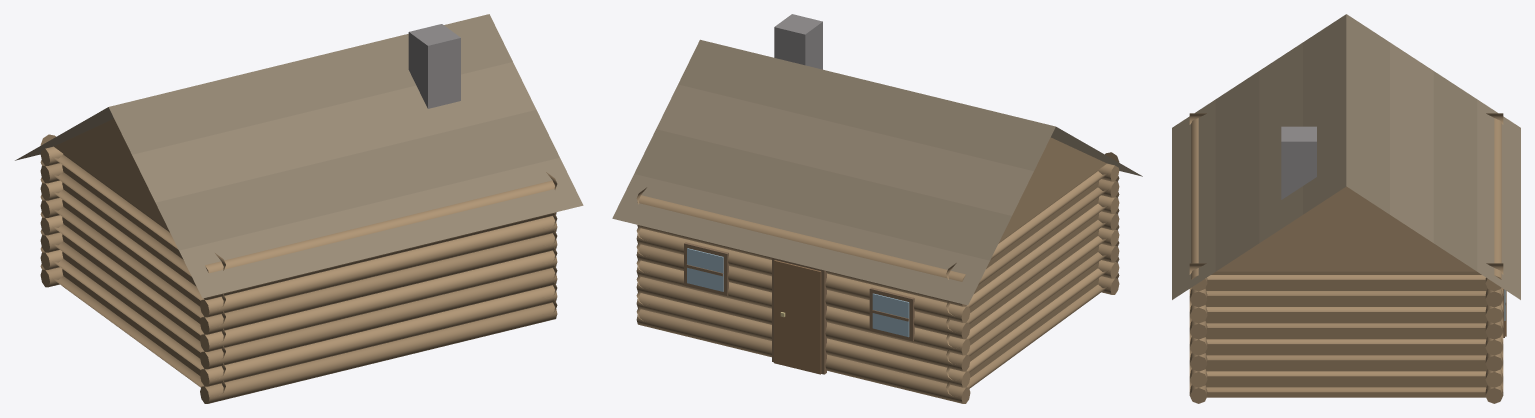
The model's file is cabin.glb.
3 renders of one model, left to right at view 1: azimuth 30°, elevation 25°; view 2: azimuth 150°, elevation 25°; view 3: azimuth 270°, elevation 25°, orthographic. The views are drawn at different scales.
Parts seen in each view (by area): view 1: cabin; view 2: cabin; view 3: cabin.
Boxes of the visible parts, x1,y1,x2,y2 form: cabin: [15, 14, 583, 403]; cabin: [612, 14, 1142, 403]; cabin: [1172, 14, 1520, 403].
Size of the model in its own units: 6.9 by 4.5 by 5.9.
